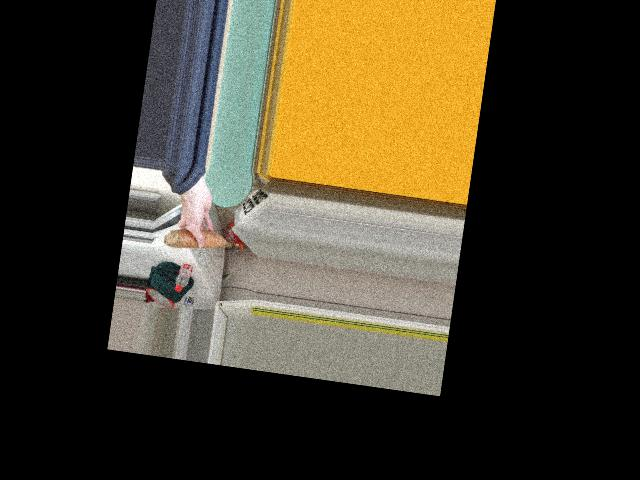sweet_potato: (173, 226, 227, 248)
